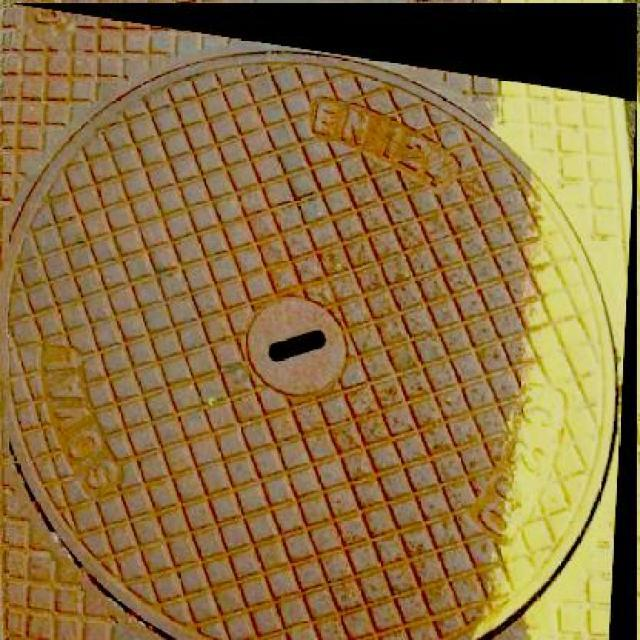Manhole: (9, 3, 637, 640)
